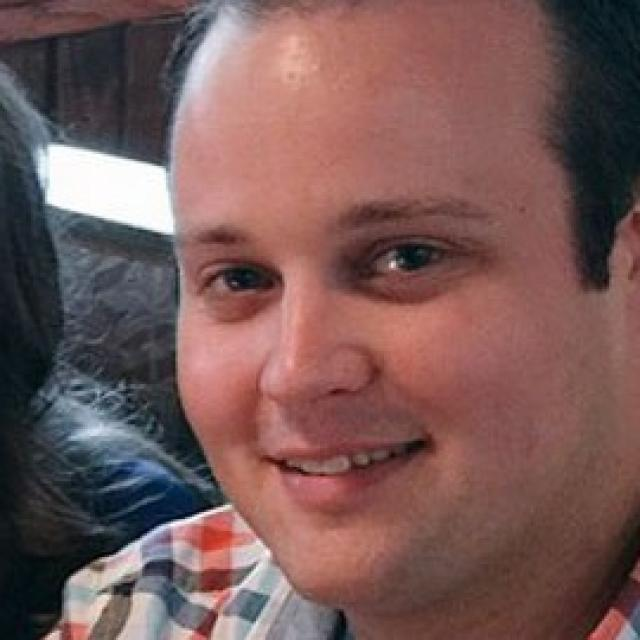Normal: (164, 0, 599, 598)
